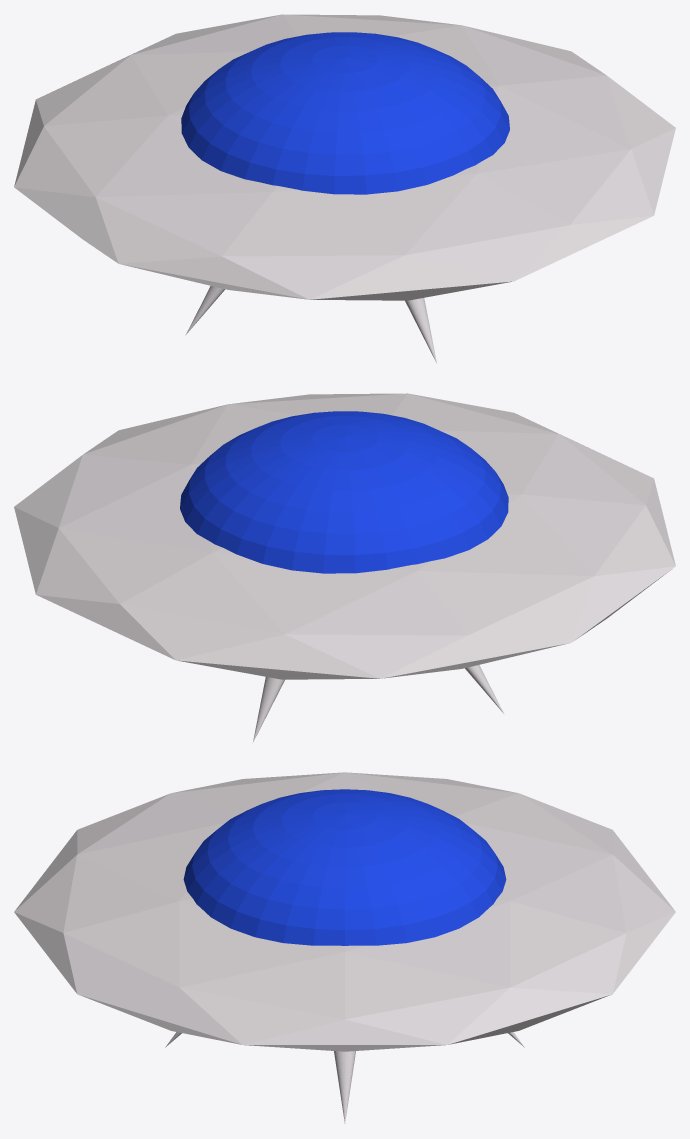
File: UFO.fbx
3 renders of one model, top to bottom at view 1: azimuth 30°, elevation 25°; view 2: azimuth 150°, elevation 25°; view 3: azimuth 270°, elevation 25°, orthographic. The views are drawn at different scales.
Parts seen in each view (by area): view 1: Icosphere.001, Sphere, Cone.002; view 2: Icosphere.001, Sphere, Cone.003; view 3: Icosphere.001, Sphere, Cone.001.
Part boxes in pixels (x1,y1,x2,y2): Icosphere.001: [14, 14, 675, 300]; Sphere: [181, 32, 509, 194]; Cone.002: [405, 298, 436, 363]; Icosphere.001: [14, 393, 675, 679]; Sphere: [180, 411, 508, 573]; Cone.003: [253, 677, 284, 742]; Icosphere.001: [14, 772, 675, 1051]; Sphere: [183, 789, 506, 945]; Cone.001: [334, 1051, 355, 1123].
Size of the model in its own units: 114 by 46.79 by 120.
